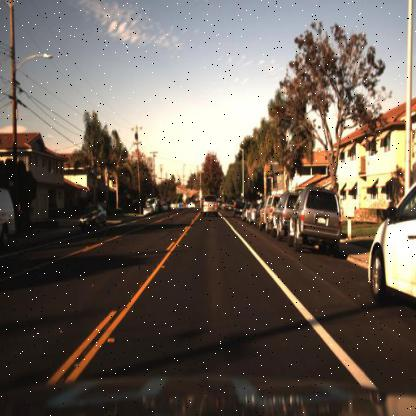car: (366, 178, 416, 313), (290, 182, 345, 257), (286, 181, 344, 250), (272, 187, 296, 245), (76, 199, 106, 237), (271, 186, 290, 239), (78, 201, 107, 232), (258, 195, 272, 237), (202, 188, 220, 219), (142, 201, 155, 217)
